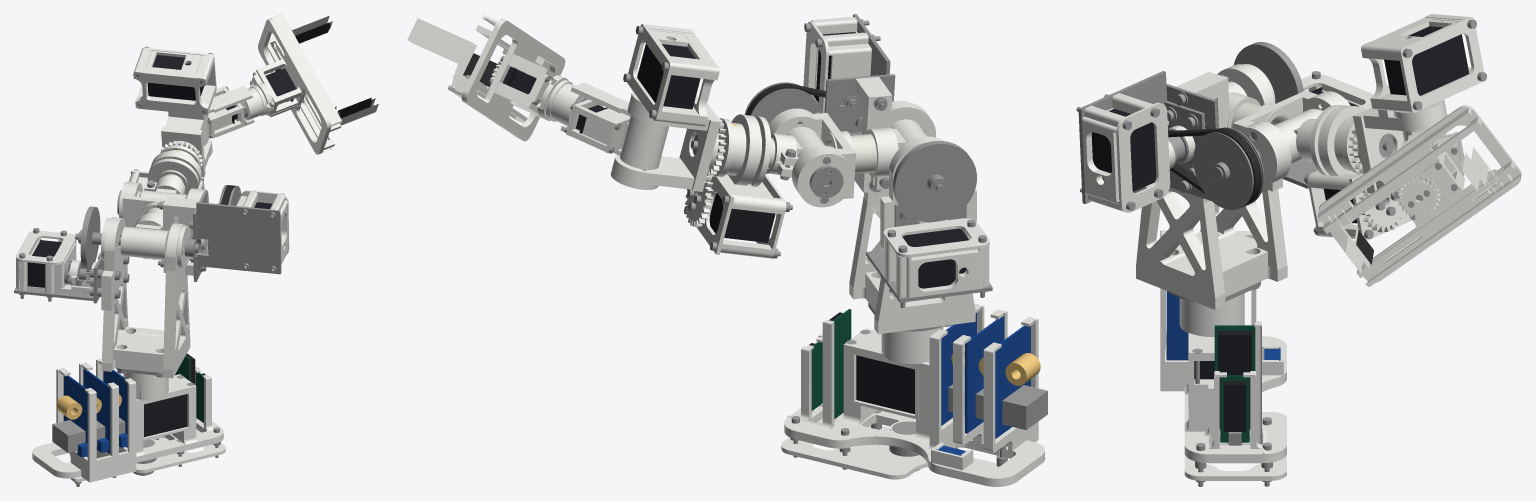
The model's file is AFR2_Brazo_v17_Blanco.glb.
The picture shows the model from 3 angles, left to right: view 1: azimuth 30°, elevation 25°; view 2: azimuth 150°, elevation 25°; view 3: azimuth 270°, elevation 25°; orthographic projection. The views are drawn at different scales.
Visible parts, largest first — view 1: mesh_base-fixed.002, mesh_j1.002, mesh_j2.002, mesh_j4.002, mesh_j6.002, mesh_j3.002, mesh_j5.002, mesh_jaw-right.002, mesh_jaw-left.002; view 2: mesh_base-fixed.002, mesh_j2.002, mesh_j1.002, mesh_j3.002, mesh_j4.002, mesh_j6.002, mesh_j5.002, mesh_jaw-right.002, mesh_drive-j4.002; view 3: mesh_j2.002, mesh_base-fixed.002, mesh_j1.002, mesh_j4.002, mesh_j6.002, mesh_j3.002, mesh_jaw-left.002, mesh_jaw-right.002, mesh_drive-grip.002, mesh_drive-j4.002, mesh_j5.002.
Boxes of the visible parts, x1,y1,x2,y2 form: mesh_base-fixed.002: (32, 353, 225, 486); mesh_j1.002: (14, 217, 190, 378); mesh_j2.002: (75, 181, 289, 281); mesh_j4.002: (133, 46, 216, 178); mesh_j6.002: (240, 14, 342, 154); mesh_j3.002: (117, 145, 241, 239); mesh_j5.002: (202, 85, 267, 145); mesh_jaw-right.002: (267, 15, 332, 104); mesh_jaw-left.002: (334, 97, 378, 125); mesh_base-fixed.002: (781, 303, 1047, 486); mesh_j2.002: (746, 14, 976, 222); mesh_j1.002: (849, 100, 992, 334); mesh_j3.002: (684, 82, 843, 258); mesh_j4.002: (610, 24, 726, 191); mesh_j6.002: (448, 15, 588, 141); mesh_j5.002: (546, 80, 668, 169); mesh_jaw-right.002: (407, 18, 490, 95); mesh_drive-j4.002: (685, 176, 713, 227); mesh_j2.002: (1076, 42, 1350, 212); mesh_base-fixed.002: (1160, 230, 1286, 486); mesh_j1.002: (1136, 64, 1373, 309); mesh_j4.002: (1348, 14, 1486, 193); mesh_j6.002: (1317, 105, 1521, 286); mesh_j3.002: (1193, 105, 1411, 240); mesh_jaw-left.002: (1327, 168, 1422, 273); mesh_jaw-right.002: (1415, 147, 1512, 229); mesh_drive-grip.002: (1398, 176, 1440, 218); mesh_drive-j4.002: (1359, 189, 1405, 232); mesh_j5.002: (1401, 128, 1464, 176).
Bounding box in the file's own units: 0.3855 × 0.3339 × 0.2736.
